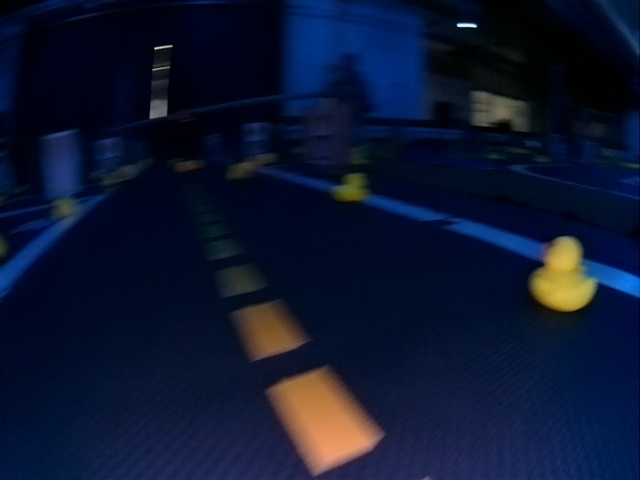Duckie: (528, 236, 596, 309), (332, 172, 365, 202), (52, 197, 78, 215), (231, 163, 251, 179), (178, 158, 199, 172)
